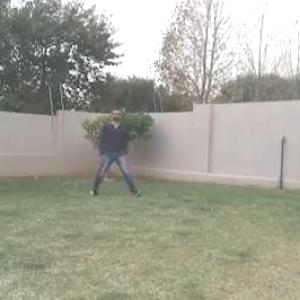follow: (100, 100, 124, 196)
